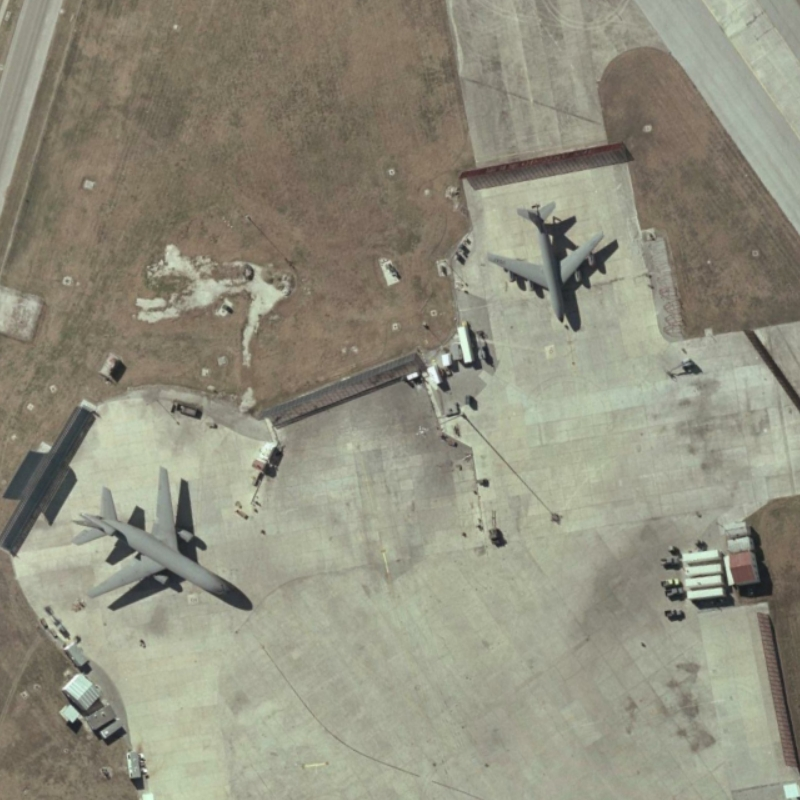A14: (477, 194, 615, 328)
A18: (63, 463, 240, 617)
